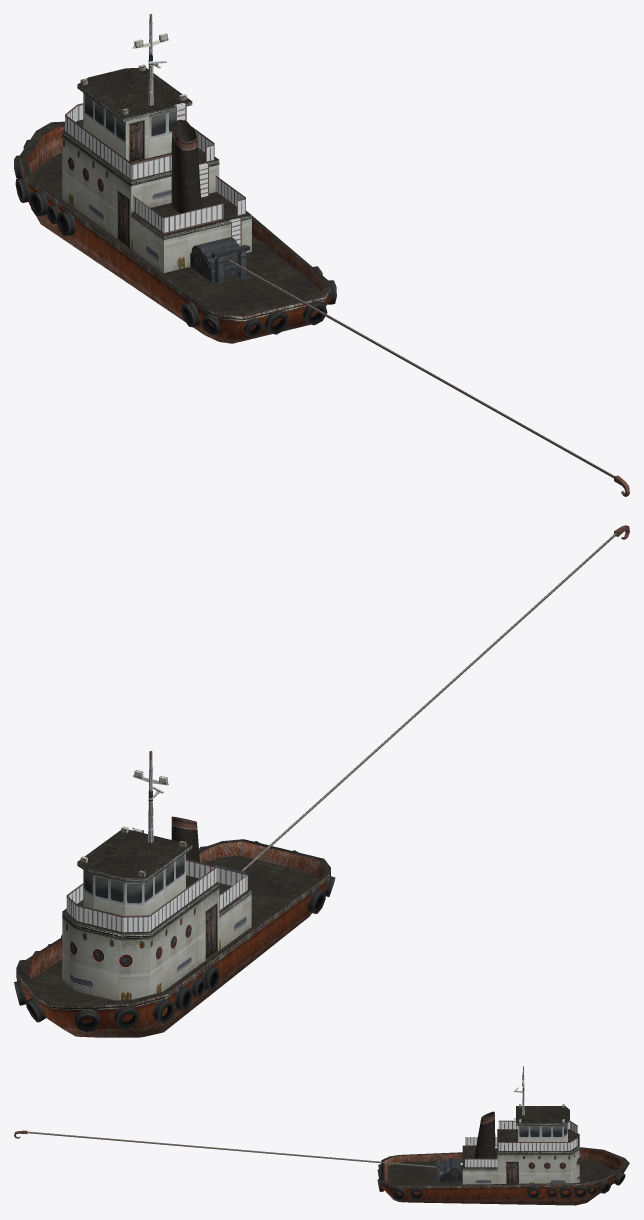
The model's file is tugboat.fbx.
The picture shows the model from 3 angles, top to bottom: view 1: azimuth 30°, elevation 25°; view 2: azimuth 150°, elevation 25°; view 3: azimuth 270°, elevation 25°; orthographic projection. The views are drawn at different scales.
Visible parts, largest first — view 1: mesh_1, mesh_2, mesh_0, mesh_4, mesh_5, mesh_6, mesh_3; view 2: mesh_2, mesh_1, mesh_0, mesh_4, mesh_3, mesh_6, mesh_5; view 3: mesh_1, mesh_0, mesh_2, mesh_5, mesh_4, mesh_6, mesh_3.
Boxes of the visible parts, bbox=[...] form: mesh_1: bbox=[19, 68, 330, 316]; mesh_2: bbox=[62, 85, 251, 272]; mesh_0: bbox=[19, 127, 330, 343]; mesh_4: bbox=[65, 102, 629, 496]; mesh_5: bbox=[80, 14, 614, 478]; mesh_6: bbox=[14, 139, 336, 337]; mesh_3: bbox=[83, 38, 175, 158]; mesh_2: bbox=[62, 845, 251, 1000]; mesh_1: bbox=[19, 816, 330, 1006]; mesh_0: bbox=[19, 841, 330, 1037]; mesh_4: bbox=[66, 525, 629, 932]; mesh_3: bbox=[83, 775, 185, 915]; mesh_6: bbox=[14, 841, 335, 1031]; mesh_5: bbox=[80, 533, 617, 877]; mesh_1: bbox=[381, 1106, 629, 1186]; mesh_0: bbox=[381, 1148, 628, 1205]; mesh_2: bbox=[462, 1120, 579, 1184]; mesh_5: bbox=[27, 1066, 564, 1181]; mesh_4: bbox=[14, 1113, 577, 1167]; mesh_6: bbox=[377, 1164, 625, 1200]; mesh_3: bbox=[513, 1086, 567, 1141].
Bounding box in the file's own units: 877 × 1250 × 5684.
Materials: 7 (7 with a texture image).
